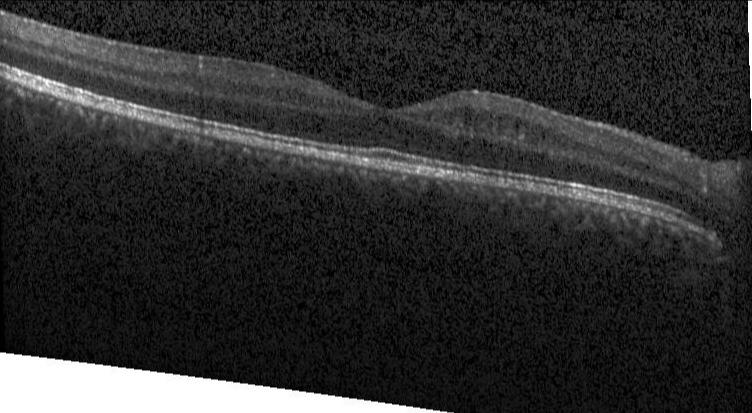intraretinal_cyst: (463, 106, 475, 126), (514, 116, 521, 132), (496, 113, 505, 121), (541, 128, 546, 139)
